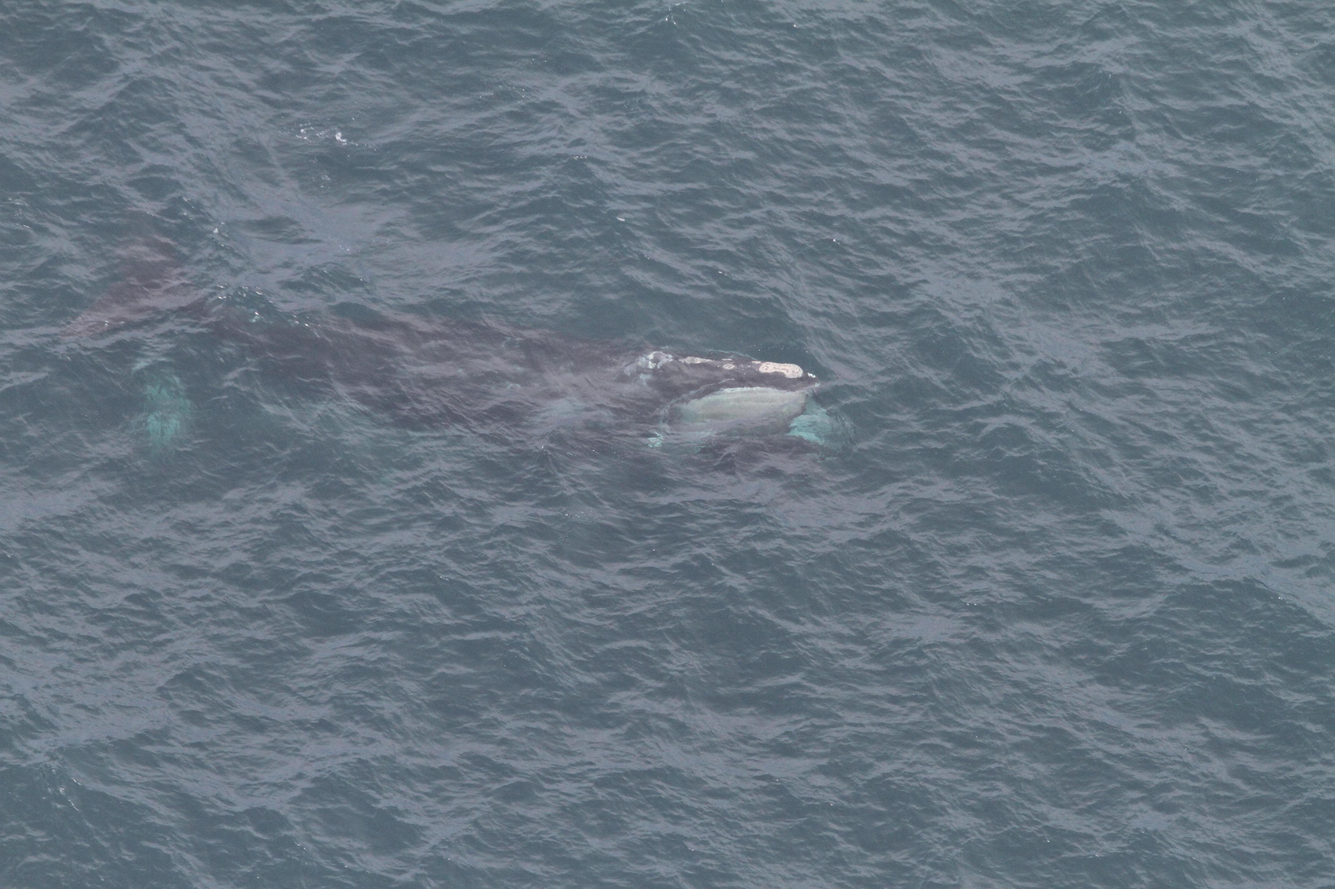whale: (46, 201, 870, 571)
